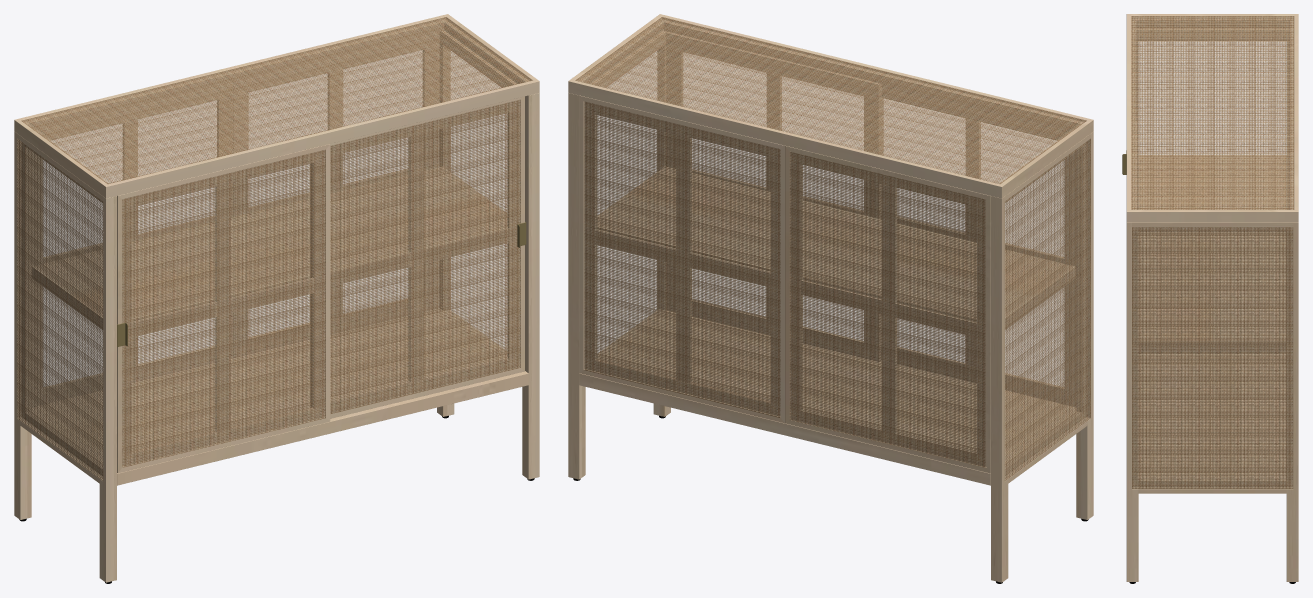
Rendered from stockholm-2025-armario-con-puertas-correderas-ratanpino.glb.
3 renders of one model, left to right at view 1: azimuth 30°, elevation 25°; view 2: azimuth 150°, elevation 25°; view 3: azimuth 270°, elevation 25°, orthographic. The views are drawn at different scales.
Visible parts, largest first — view 1: 70586639_cabinet_with_sliding_doors:2.001, 70586639_cabinet_with_sliding_doors:1.001; view 2: 70586639_cabinet_with_sliding_doors:2.001, 70586639_cabinet_with_sliding_doors:1.001; view 3: 70586639_cabinet_with_sliding_doors:2.001, 70586639_cabinet_with_sliding_doors:1.001.
Boxes of the visible parts, left/top/right/bottom form: 70586639_cabinet_with_sliding_doors:2.001: left=17, top=17, right=532, bottom=480; 70586639_cabinet_with_sliding_doors:1.001: left=14, top=14, right=539, bottom=582; 70586639_cabinet_with_sliding_doors:2.001: left=575, top=17, right=1090, bottom=480; 70586639_cabinet_with_sliding_doors:1.001: left=568, top=14, right=1093, bottom=582; 70586639_cabinet_with_sliding_doors:2.001: left=1131, top=16, right=1293, bottom=488; 70586639_cabinet_with_sliding_doors:1.001: left=1126, top=14, right=1298, bottom=581.
Size of the model in its own units: 1.25 by 1.1 by 0.47.
4 materials, 2 textured.
